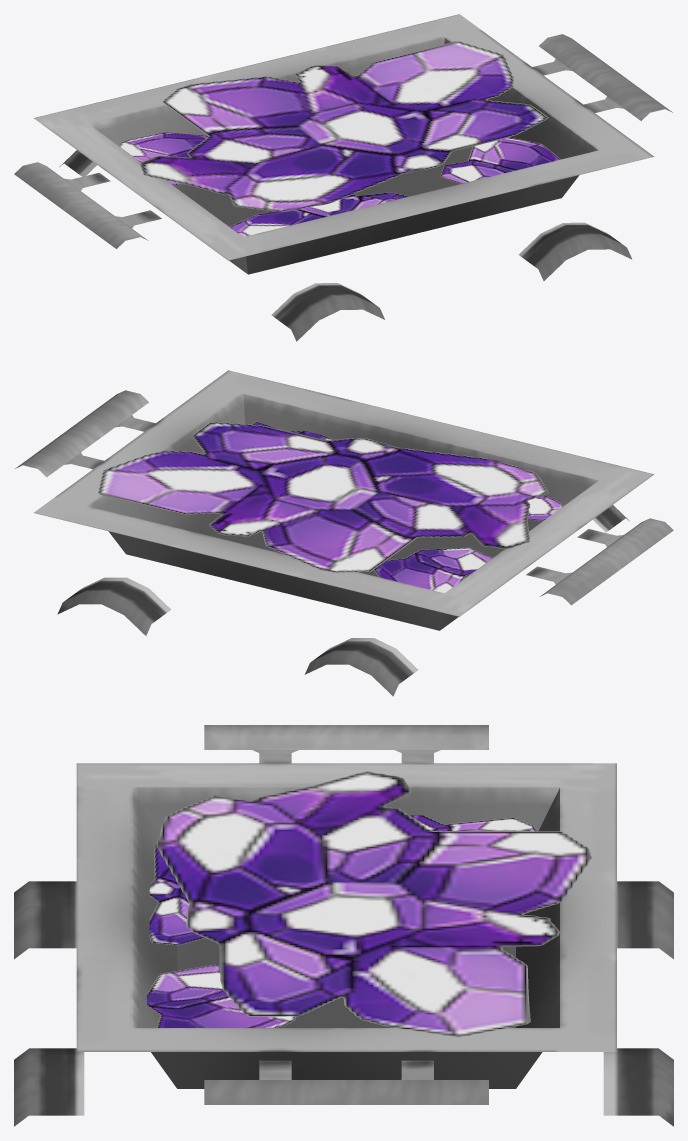
Rendered from Enviorment.fbx.
3 views of the same model, one above another, from view 1: azimuth 30°, elevation 25°; view 2: azimuth 150°, elevation 25°; view 3: azimuth 270°, elevation 25° (orthographic). The views are drawn at different scales.
Parts seen in each view (by area): view 1: CartGeo, Crystals; view 2: CartGeo, Crystals; view 3: CartGeo, Crystals.
Part boxes in pixels (<box>): CartGeo: <box>14,14,672,341</box>; Crystals: <box>119,41,560,236</box>; CartGeo: <box>15,370,673,696</box>; Crystals: <box>98,421,563,593</box>; CartGeo: <box>14,725,673,1126</box>; Crystals: <box>147,771,591,1037</box>.
Bounding box in the file's own units: 3.14 × 0.4301 × 2.32.
1 material, 1 textured.
